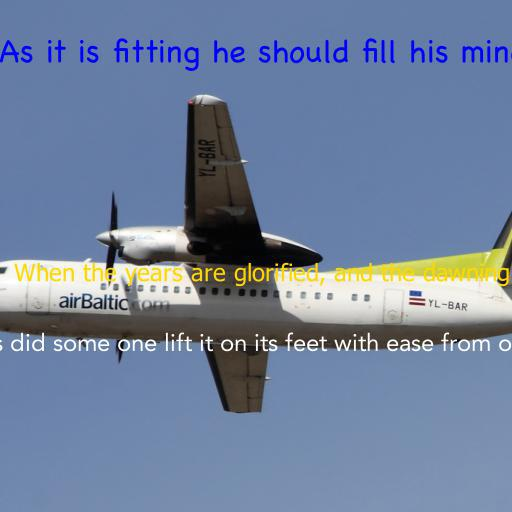Avenir: (0, 332, 512, 352)
Chalkboard: (0, 38, 512, 72)
Tahoma: (14, 262, 510, 287)
